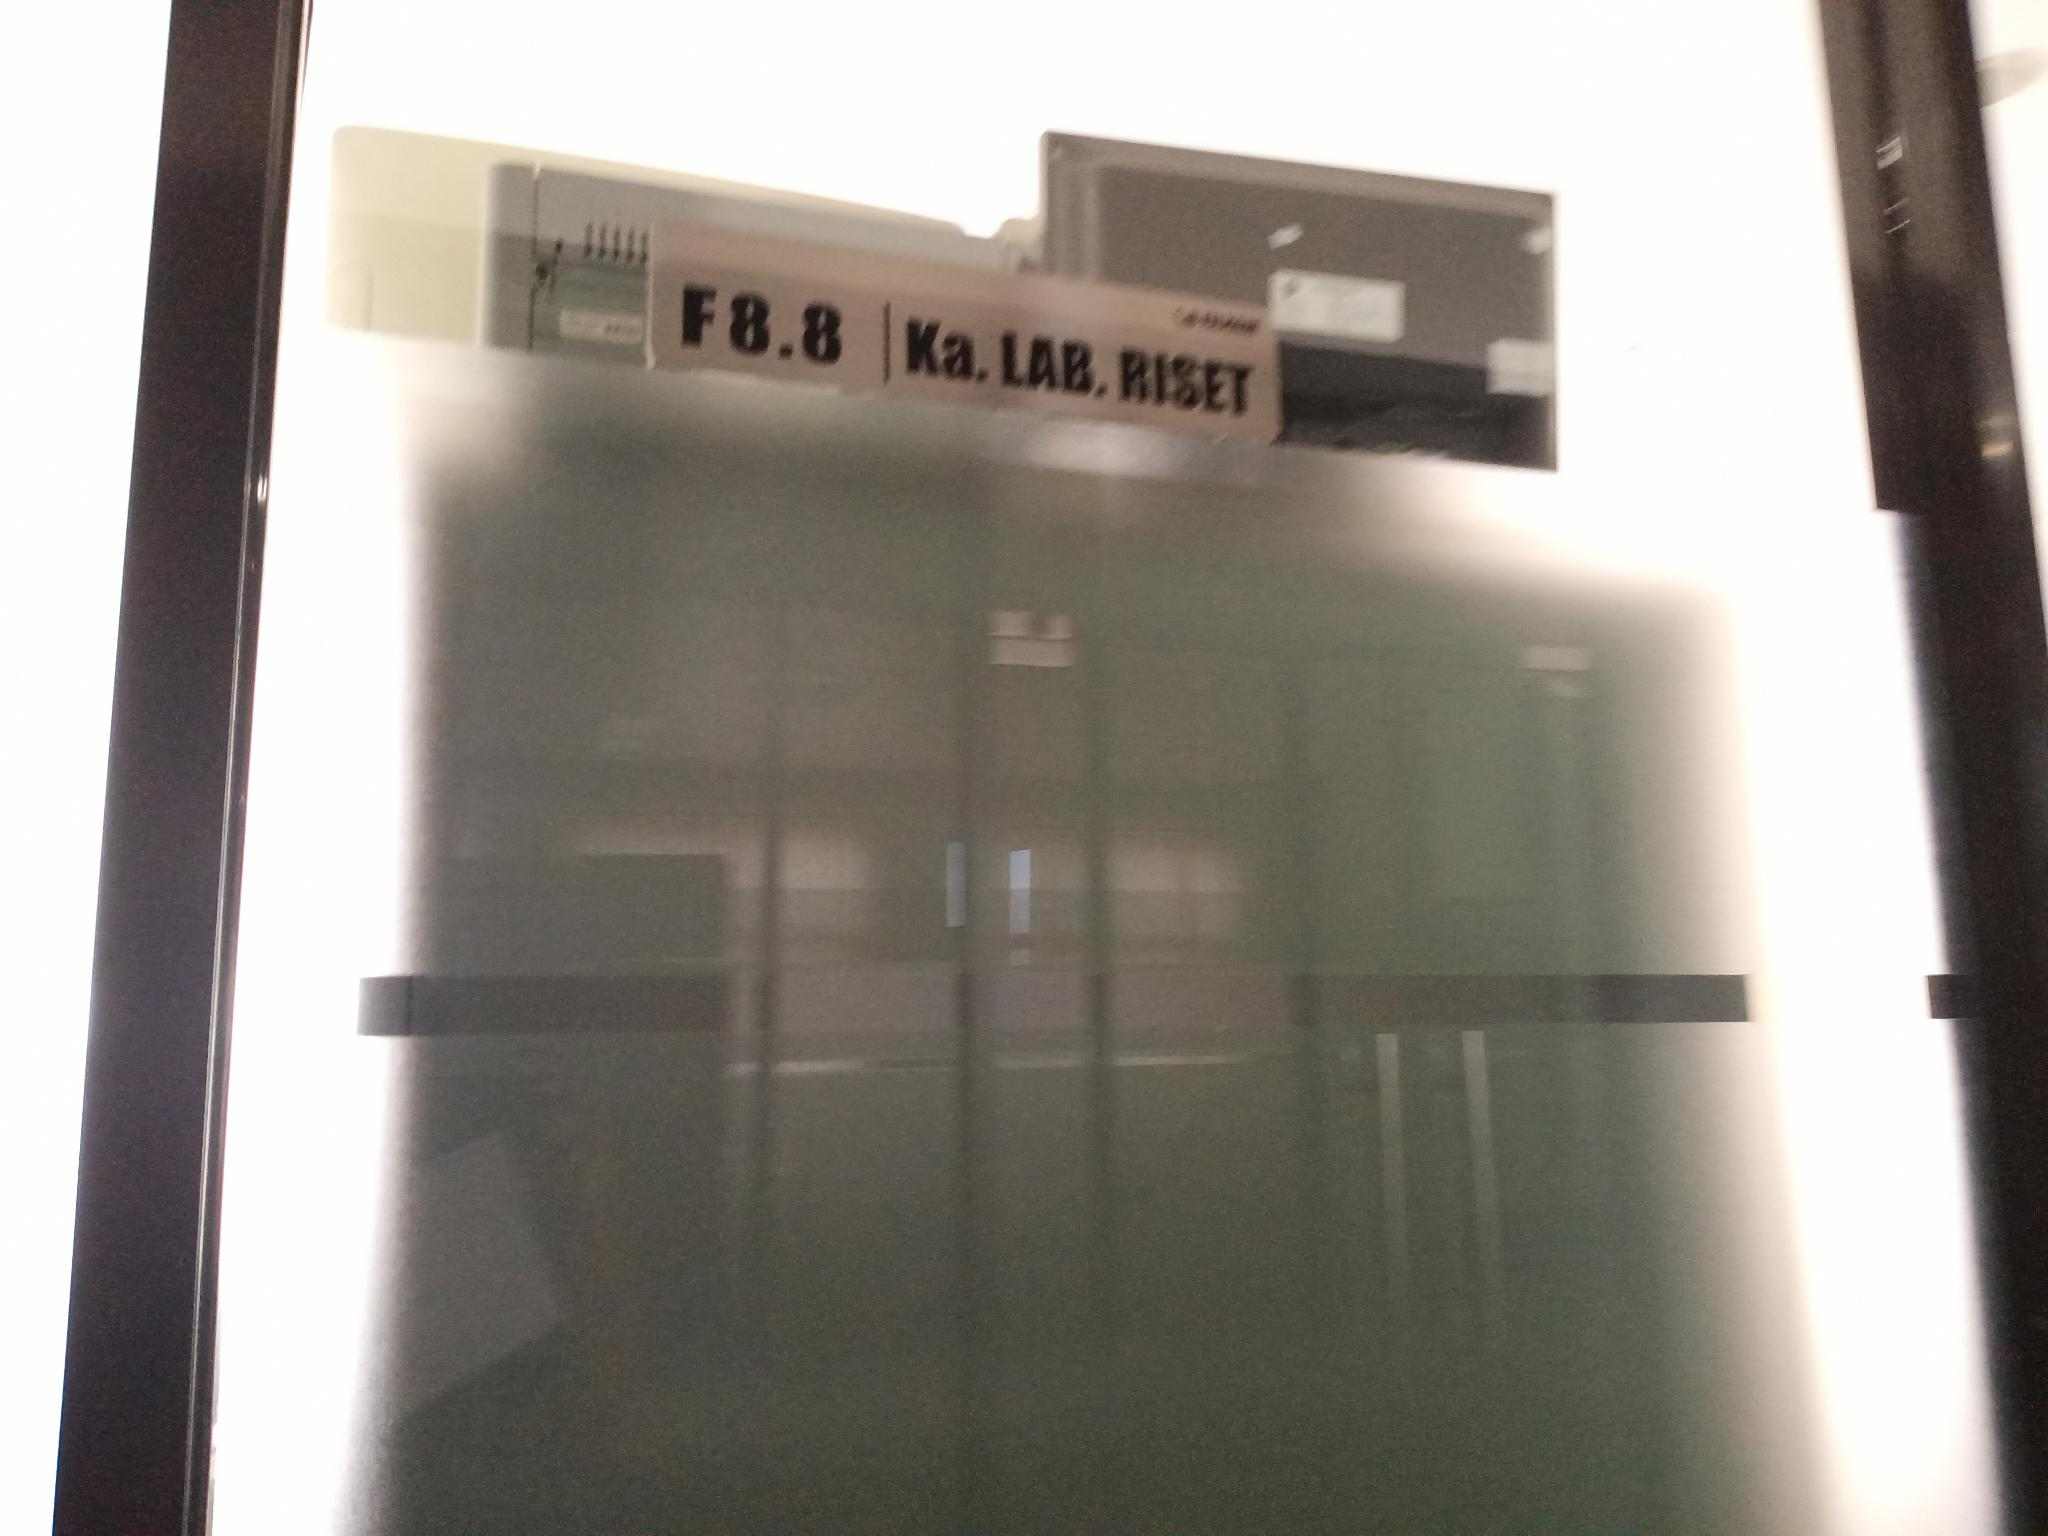plate: (648, 221, 1282, 444)
